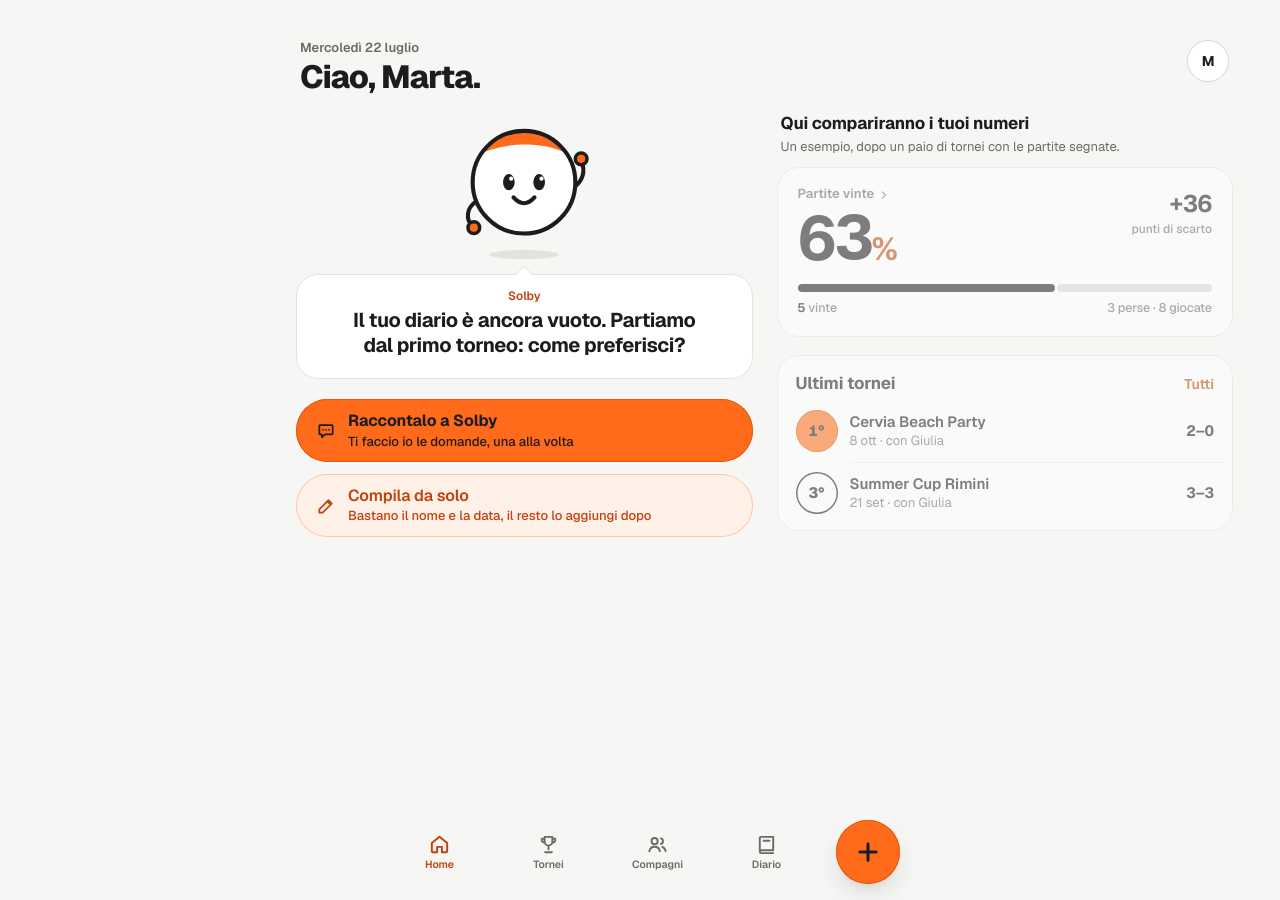
it: stati di §6 — non trovato, primo avvio, primo caricamento fallito › primo avvio: Home vuota con Solby che chiede come cominciare, le due strade, niente numeri veri
Expected: the heading "Il tuo diario è ancora vuoto. Partiamo dal primo torneo: come preferisci?" is shown, top-left (353, 307), bottom-right (696, 358)
Click the button "Compila da solo" at (524, 506), box top-left (296, 474), bottom-right (752, 537)
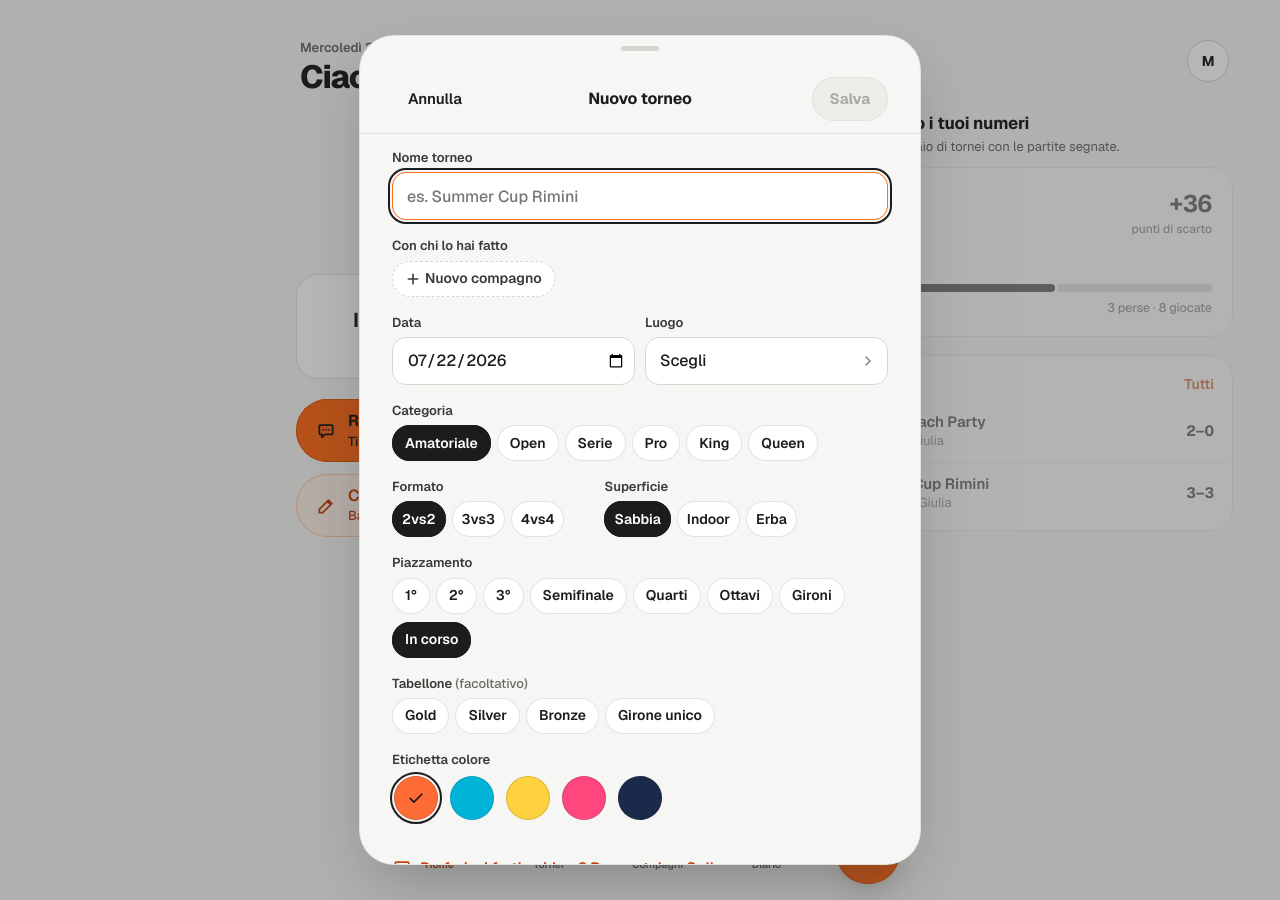
Expected: the dialog "Nuovo torneo" is shown, top-left (360, 36), bottom-right (920, 864)
